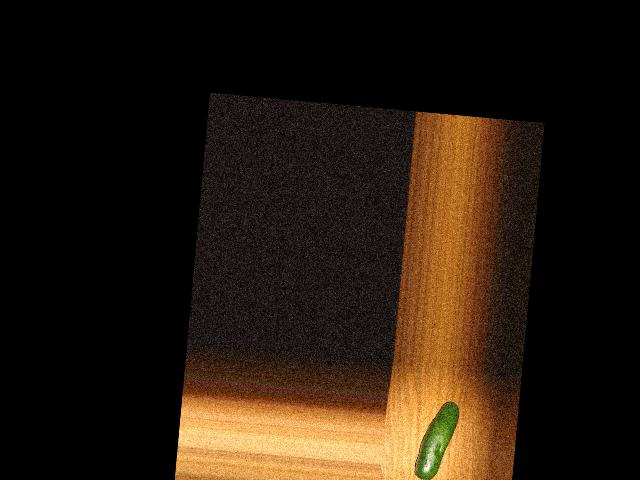cucumber: (413, 398, 459, 480)
